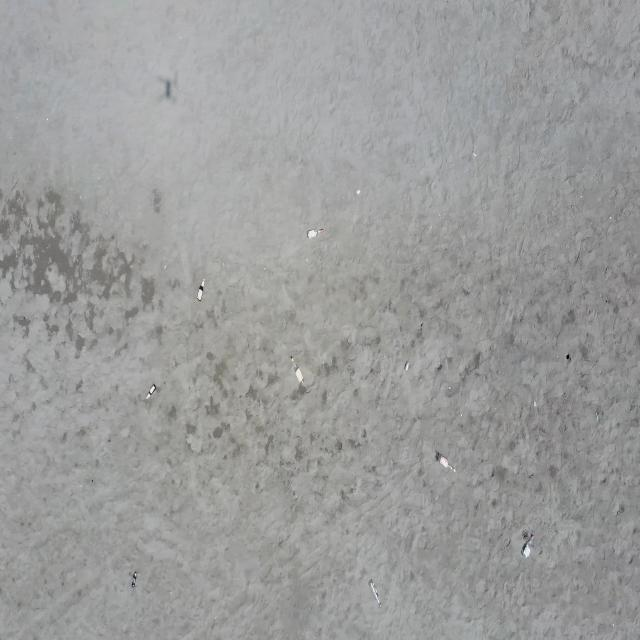glass: (437, 453, 457, 472), (369, 584, 383, 608), (292, 357, 304, 385), (523, 534, 534, 559), (197, 278, 206, 301), (307, 230, 324, 240), (146, 384, 156, 399), (132, 572, 138, 588), (404, 361, 410, 372)
